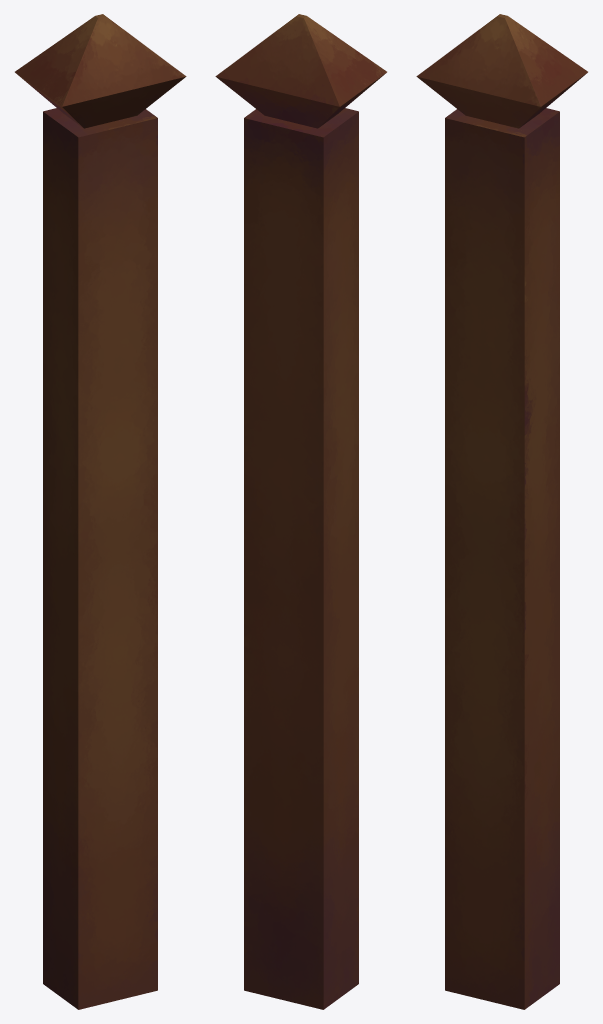
The model's file is fence 2 - Copy.fbx.
3 views of the same model, side by side, from view 1: azimuth 30°, elevation 25°; view 2: azimuth 150°, elevation 25°; view 3: azimuth 330°, elevation 25° (orthographic).
Parts seen in each view (by area): view 1: Pagar 2; view 2: Pagar 2; view 3: Pagar 2.
Boxes of the visible parts, left/top/right/bottom form: Pagar 2: left=15, top=14, right=186, bottom=1009; Pagar 2: left=215, top=14, right=386, bottom=1009; Pagar 2: left=416, top=14, right=587, bottom=1009.
Size of the model in its own units: 46.93 by 350 by 31.11.
Materials: 1 (1 with a texture image).
